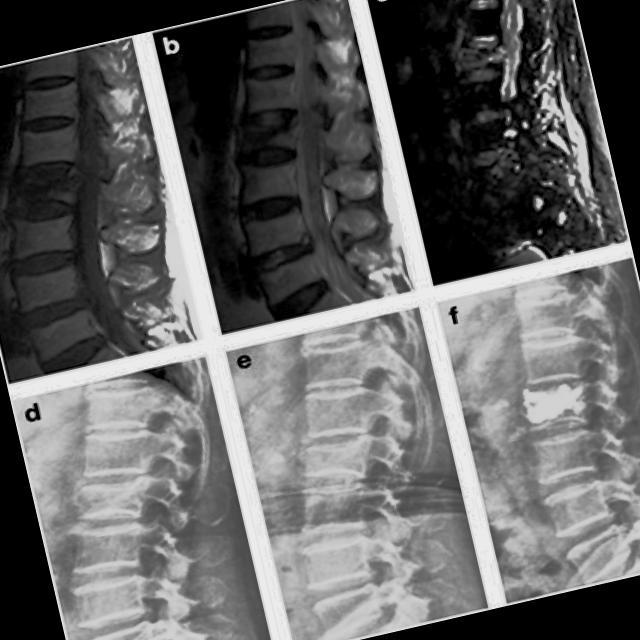Compression-Crush Fracutre: (59, 467, 179, 522), (293, 435, 388, 481), (501, 385, 598, 420), (11, 168, 83, 212)
